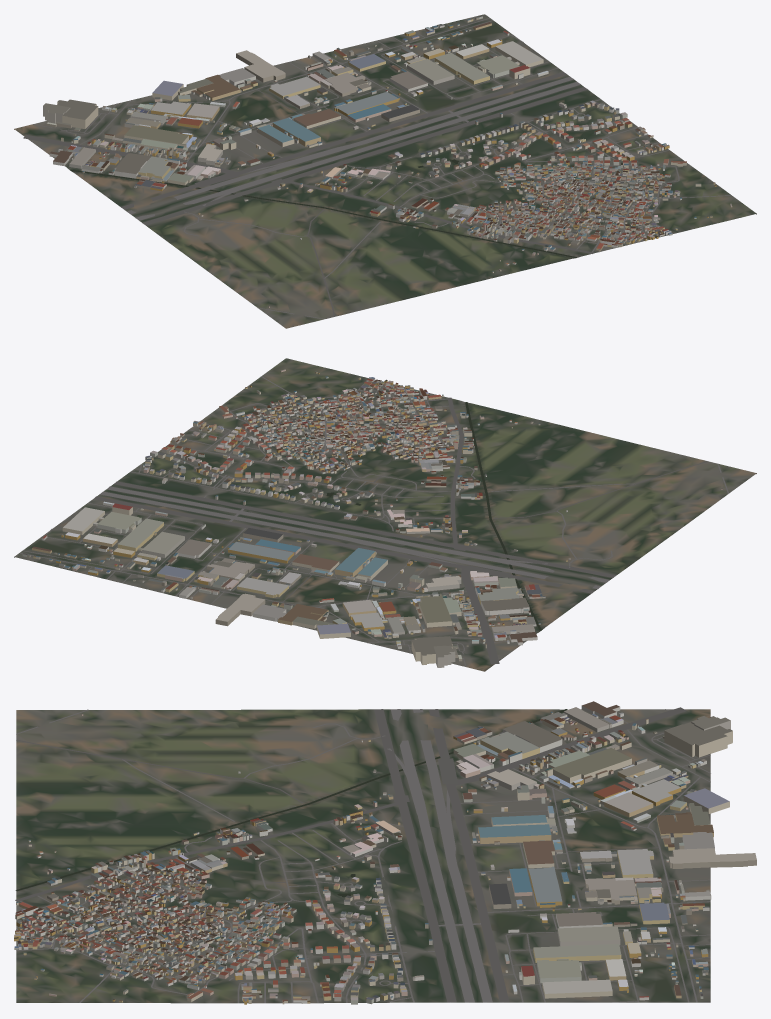
The picture shows the model from 3 angles, top to bottom: view 1: azimuth 30°, elevation 25°; view 2: azimuth 150°, elevation 25°; view 3: azimuth 270°, elevation 25°; orthographic projection. The views are drawn at different scales.
Visible parts, largest first — view 1: ground, buildings, roads, water; view 2: ground, buildings, roads, water; view 3: ground, buildings, roads, water.
Boxes of the visible parts, box(x1,y1,x2,y2) form: ground: box(14, 14, 756, 328); buildings: box(43, 15, 732, 307); roads: box(23, 18, 731, 319); water: box(70, 159, 576, 257); ground: box(14, 358, 756, 671); buildings: box(22, 369, 722, 667); roads: box(19, 376, 728, 666); water: box(326, 402, 541, 630); ground: box(16, 709, 710, 1003); buildings: box(14, 701, 756, 1004); roads: box(15, 707, 710, 1003); water: box(15, 709, 567, 897).
Bounding box in the file's own units: 1427 × 34.57 × 1500.
